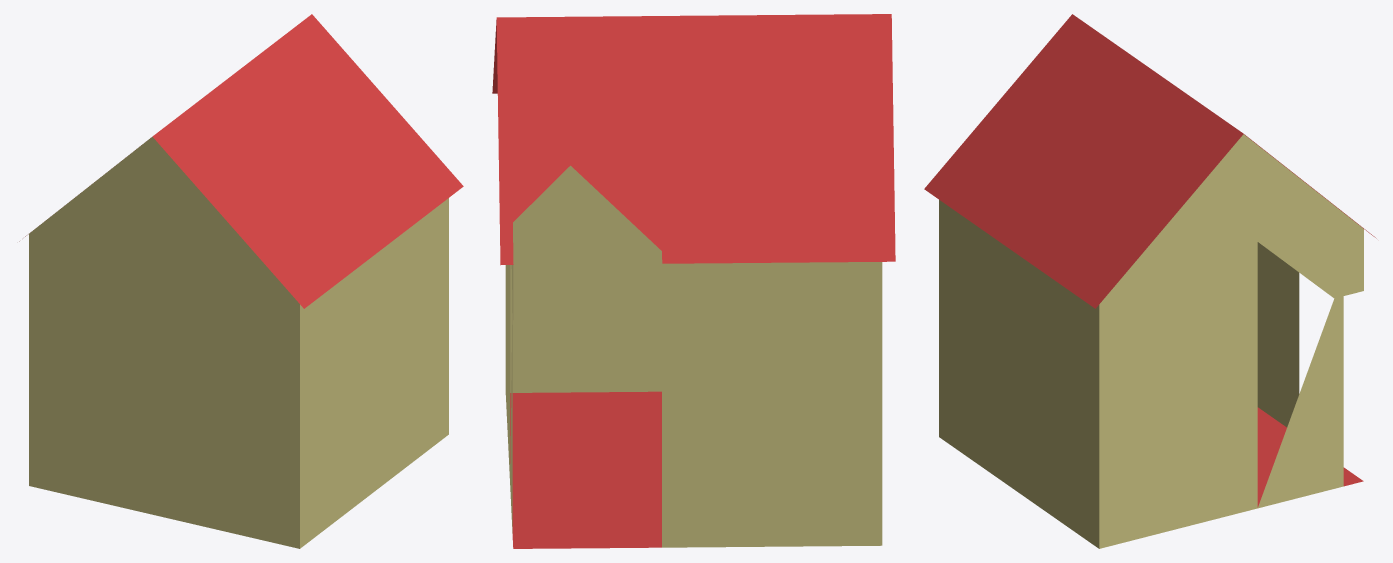
3 views of the same model, side by side, from view 1: azimuth 30°, elevation 25°; view 2: azimuth 150°, elevation 25°; view 3: azimuth 270°, elevation 25° (orthographic). The views are drawn at different scales.
Size of the model in its own units: 20.8 by 20.8 by 19.35.
